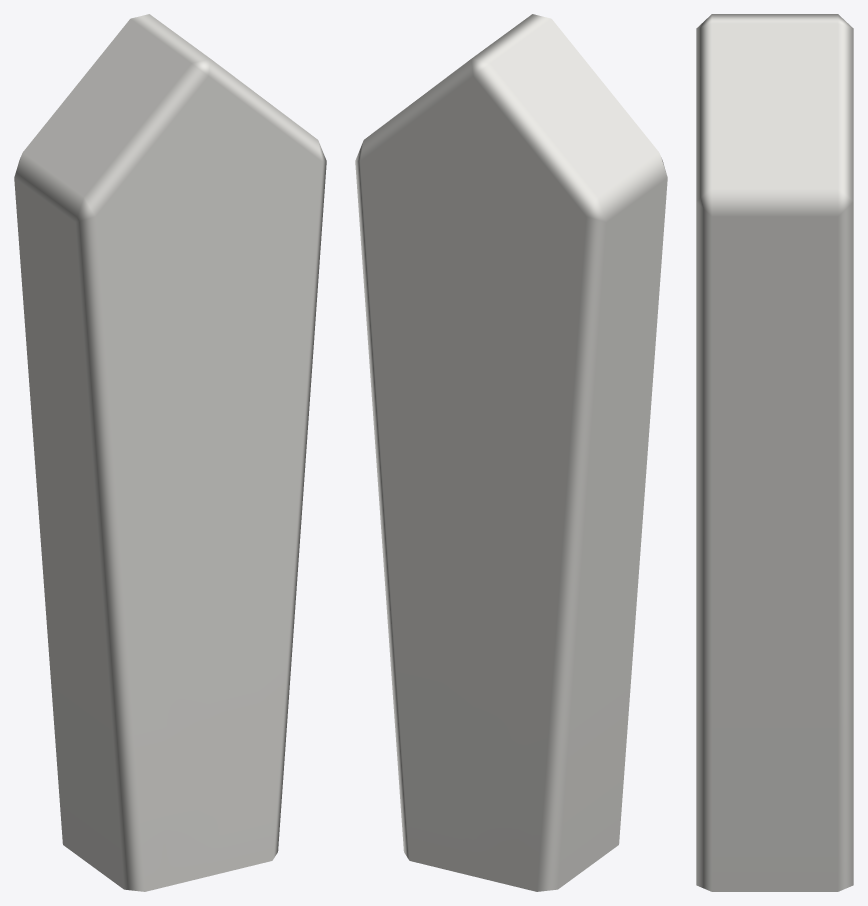
File: Fence_WhitePicket_Piece3.fbx
The picture shows the model from 3 angles, left to right: view 1: azimuth 30°, elevation 25°; view 2: azimuth 150°, elevation 25°; view 3: azimuth 270°, elevation 25°; orthographic projection. The views are drawn at different scales.
Visible parts, largest first — view 1: FencePiece; view 2: FencePiece; view 3: FencePiece.
Part boxes in pixels (bbox=[...]): FencePiece: bbox=[14, 14, 326, 891]; FencePiece: bbox=[355, 14, 667, 891]; FencePiece: bbox=[696, 14, 853, 891].
Size of the model in its own units: 37.98 by 117 by 20.
